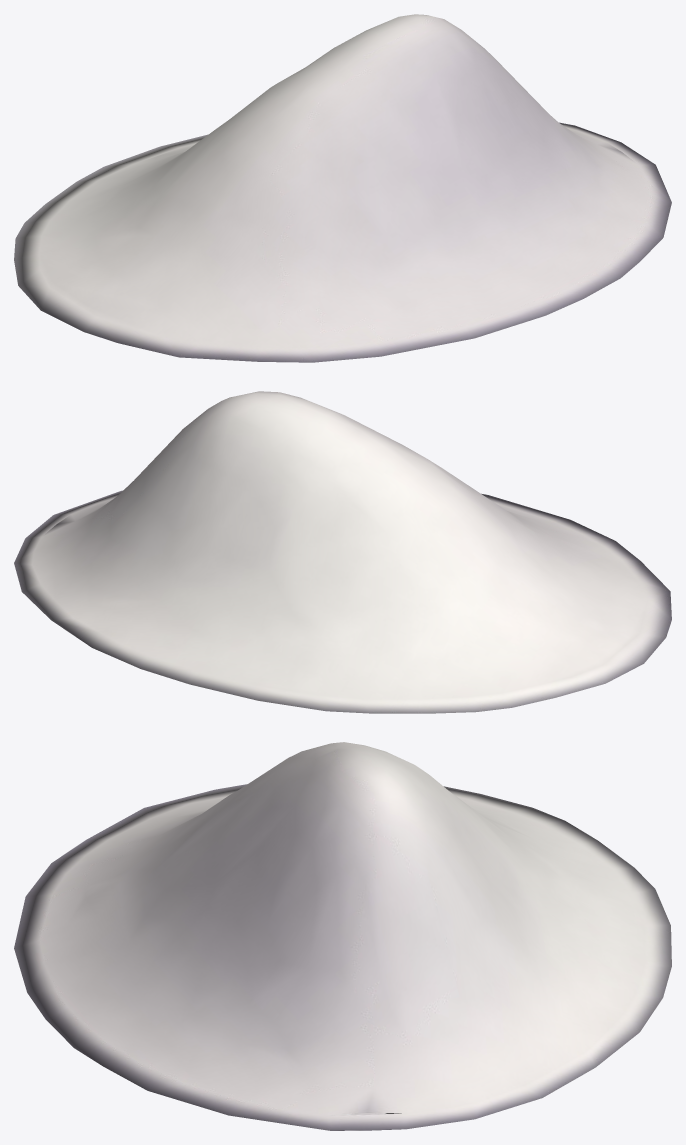
The model's file is snow_pile.glb.
3 renders of one model, top to bottom at view 1: azimuth 30°, elevation 25°; view 2: azimuth 150°, elevation 25°; view 3: azimuth 270°, elevation 25°, orthographic. The views are drawn at different scales.
Visible parts, largest first — view 1: Snow; view 2: Snow; view 3: Snow.
Part boxes in pixels (<box>): Snow: <box>14,14,671,362</box>; Snow: <box>14,391,671,713</box>; Snow: <box>14,742,671,1130</box>.
Bounding box in the file's own units: 2.11 × 0.6372 × 1.65.
Materials: 1 (1 with a texture image).
